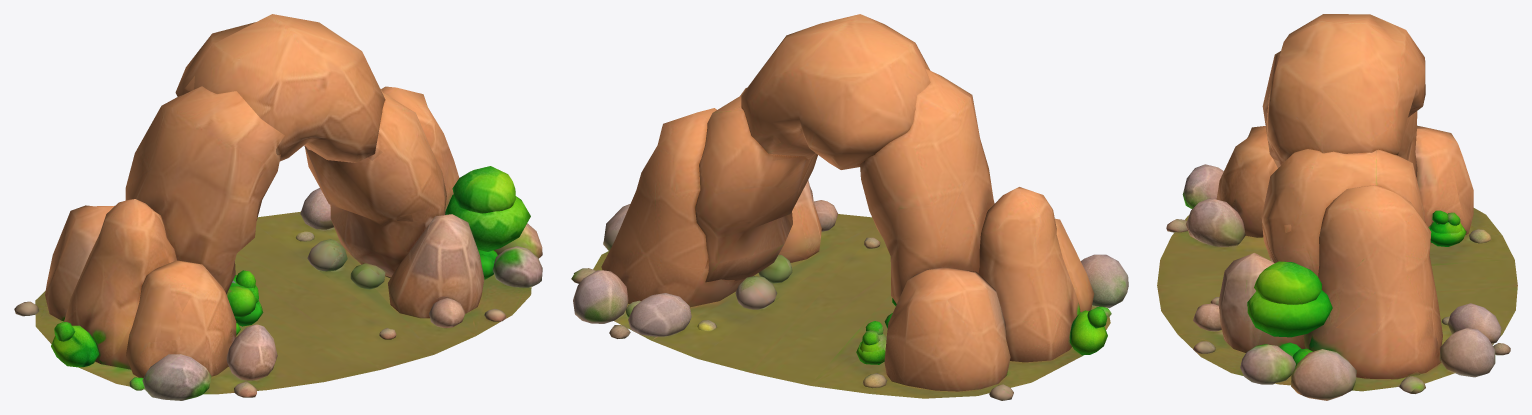
File: r6c2_stone_arch.glb
3 renders of one model, left to right at view 1: azimuth 30°, elevation 25°; view 2: azimuth 150°, elevation 25°; view 3: azimuth 270°, elevation 25°, orthographic. The views are drawn at different scales.
Size of the model in its own units: 1 by 0.5664 by 0.6875.
1 material, 1 textured.
